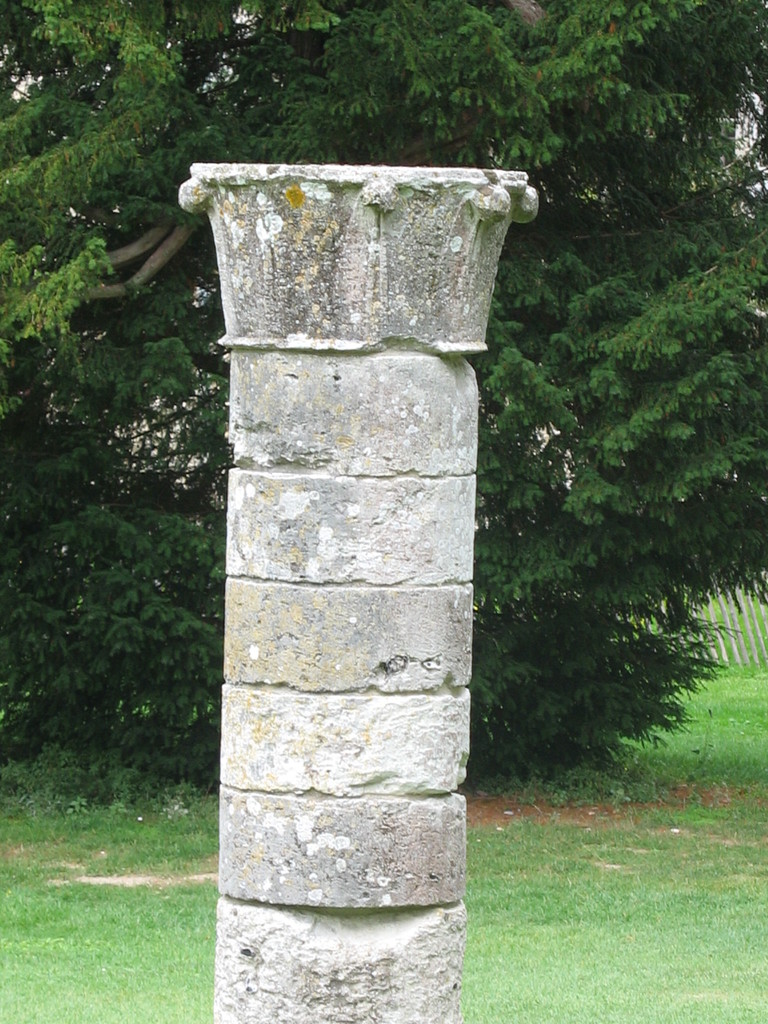Tree: (0, 1, 767, 765)
